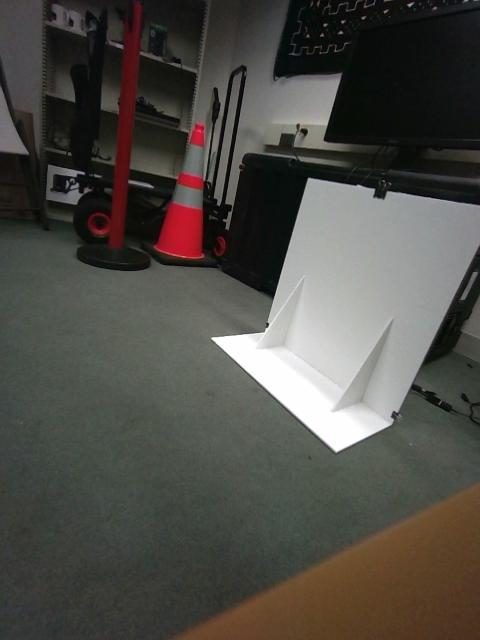block: (132, 364, 198, 448)
